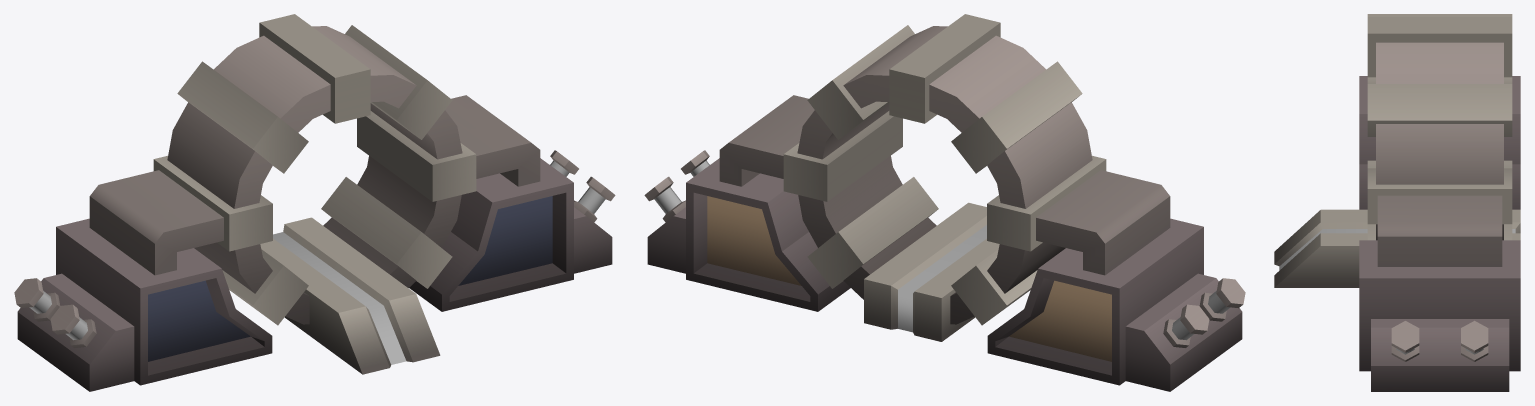
Rendered from End Portal.fbx.
The picture shows the model from 3 angles, left to right: view 1: azimuth 30°, elevation 25°; view 2: azimuth 150°, elevation 25°; view 3: azimuth 270°, elevation 25°; orthographic projection. The views are drawn at different scales.
Visible parts, largest first — view 1: End_Portal; view 2: End_Portal; view 3: End_Portal.
Boxes of the visible parts, bbox=[...] form: End_Portal: bbox=[14, 14, 615, 391]; End_Portal: bbox=[644, 14, 1245, 391]; End_Portal: bbox=[1274, 14, 1520, 391].
Size of the model in its own units: 525 by 229 by 209.
Materials: 2 (1 with a texture image).
